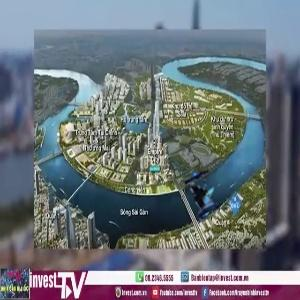drone: (145, 157, 238, 250)
